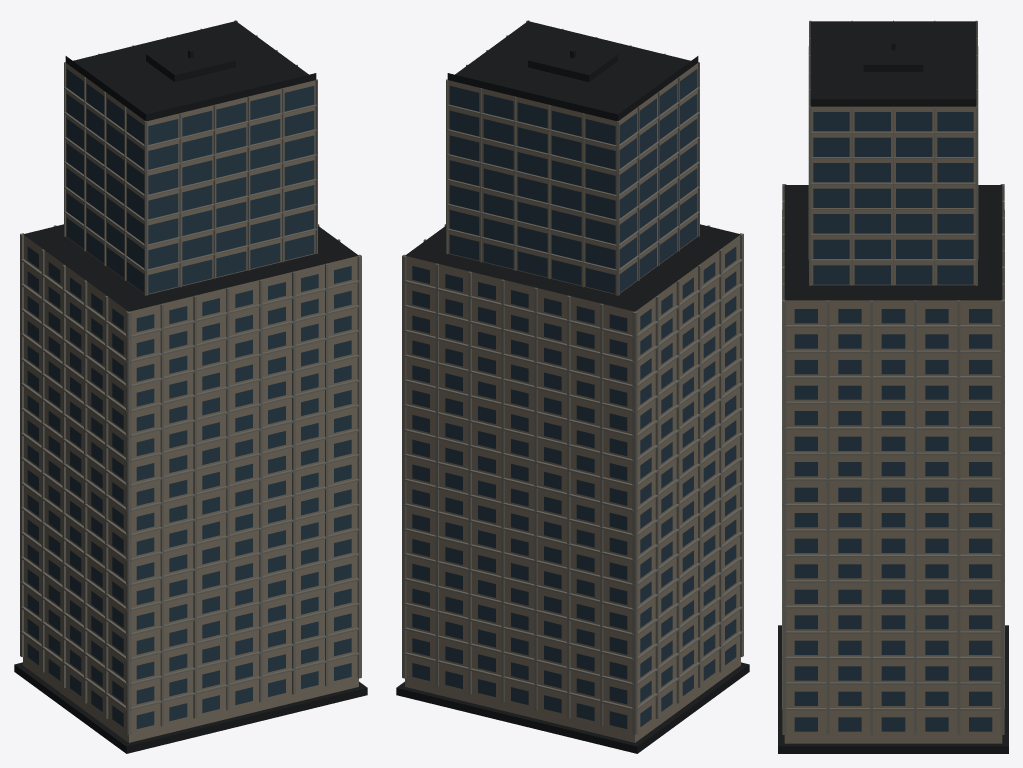
Rendered from office-02.glb.
The picture shows the model from 3 angles, left to right: view 1: azimuth 30°, elevation 25°; view 2: azimuth 150°, elevation 25°; view 3: azimuth 270°, elevation 25°; orthographic projection. The views are drawn at different scales.
Visible parts, largest first — view 1: stepped-tower; view 2: stepped-tower; view 3: stepped-tower.
Part boxes in pixels (x1,y1,x2,y2): stepped-tower: (14,20,367,753); stepped-tower: (396,20,749,753); stepped-tower: (778,20,1008,753).
Bounding box in the file's own units: 39.5 × 99.08 × 31.85.
